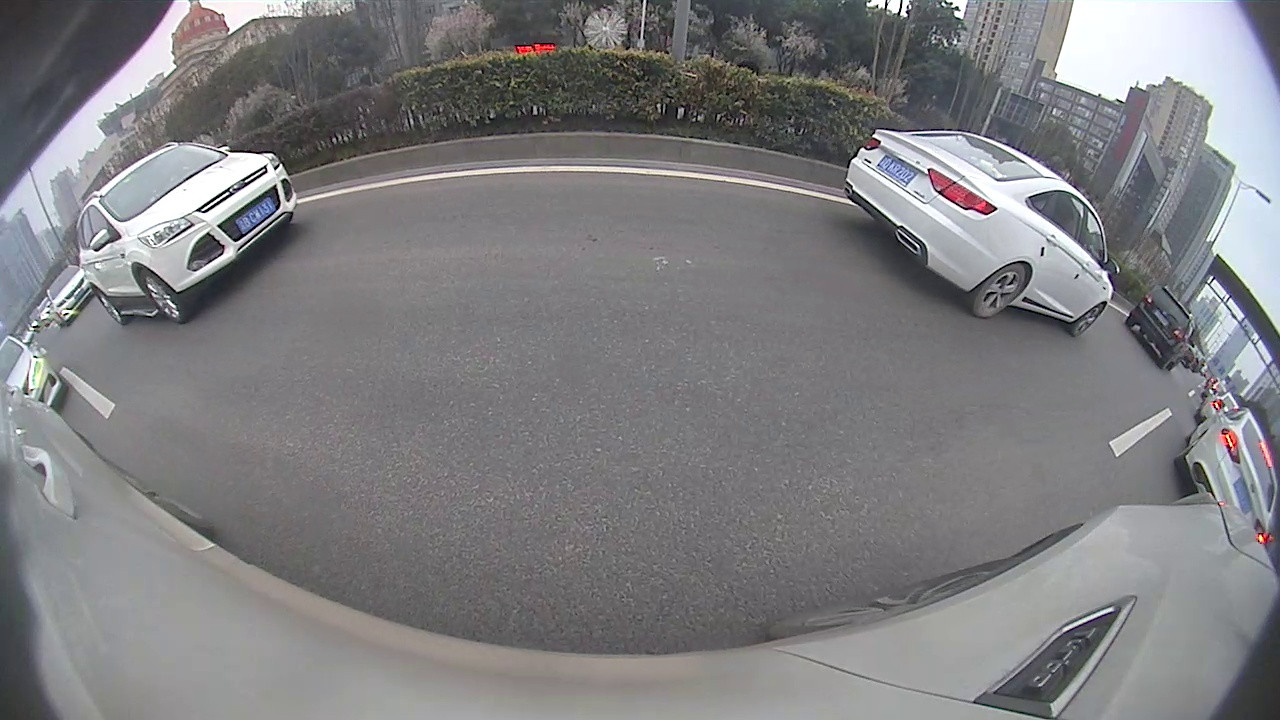car: (841, 126, 1123, 340), (76, 138, 300, 327), (1173, 401, 1277, 542), (1125, 285, 1199, 370), (0, 336, 67, 414)
front: (141, 268, 184, 326), (1071, 304, 1105, 337)
rear: (972, 262, 1030, 318), (97, 286, 125, 326)
